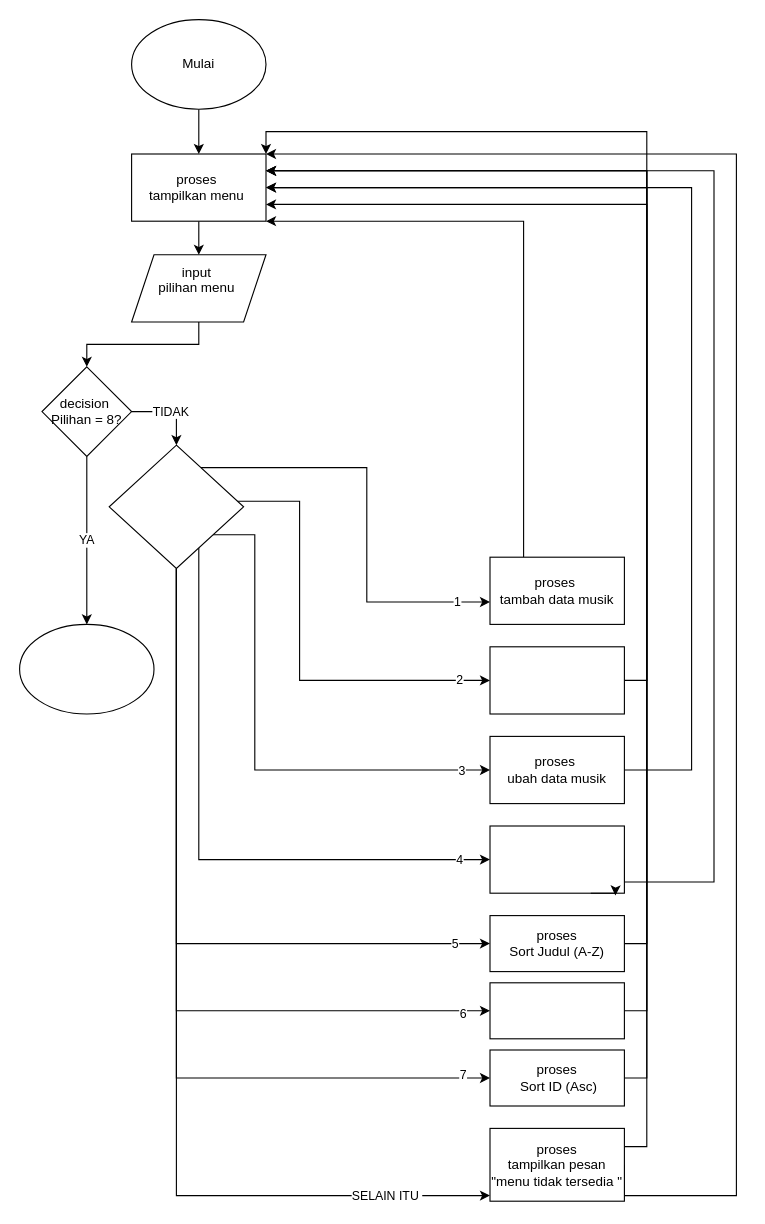
This 765x1224 diagram has some shape labels left out. The shapes that lost their labels are listed below. From the top down, each one's box as (x1, y1, x2, y2) in pixels, then its label:
(108, 444, 244, 568): decision pilihan 1-7 ?
(18, 623, 154, 714): selesai
(489, 646, 624, 714): proses lihat data musik
(489, 825, 624, 893): proses hapus data musik
(489, 982, 624, 1039): proses Sort Tahun (Desc)
